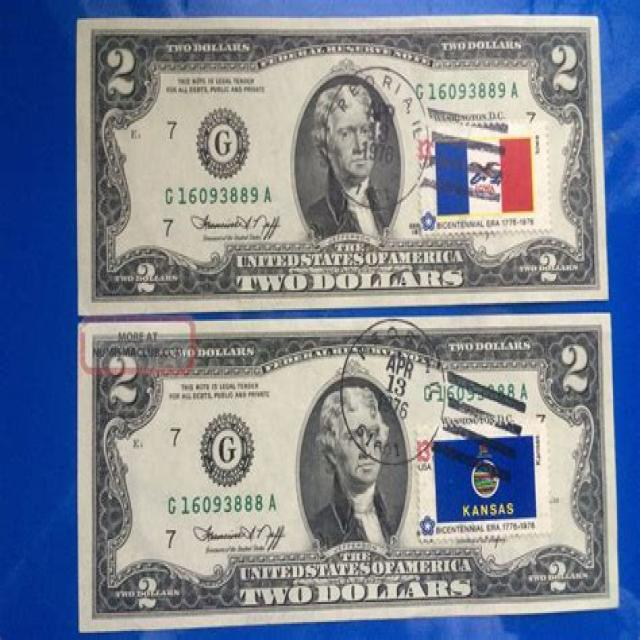Two: (81, 323, 617, 620), (77, 18, 608, 302)
